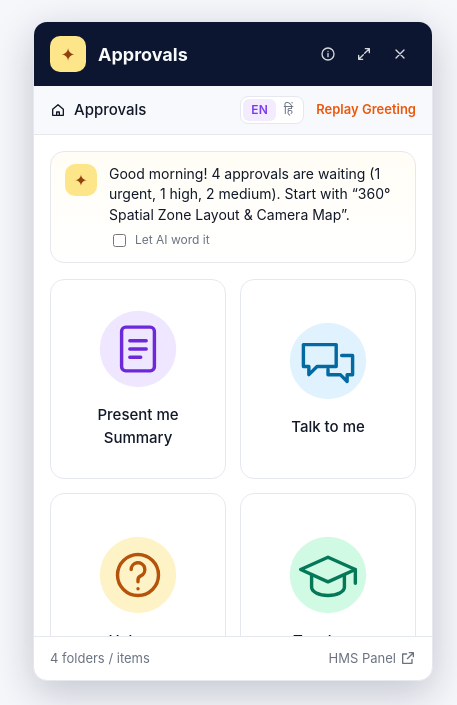
Test: AssistantPanel › opens an action view and goes back to the cards
This screenshot has width=457, height=705.
Click the button "Teach me" at (328, 593), box 240,493 -> 416,693
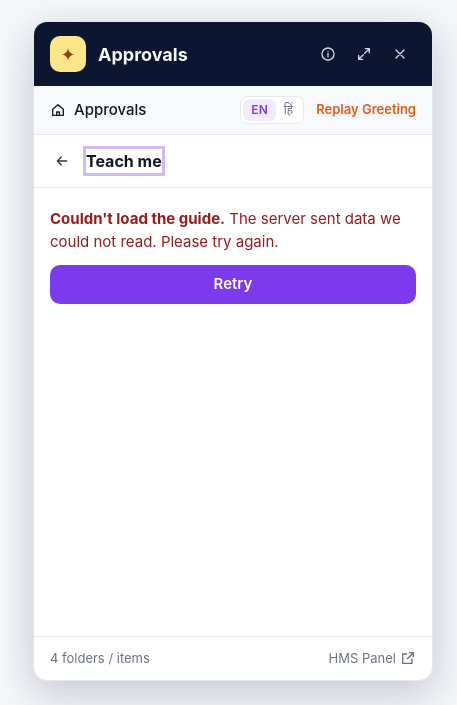
Expected: the heading "Teach me" is shown, 86,149 -> 162,173
Click the button named "back" at (62, 161), box 46,145 -> 78,177
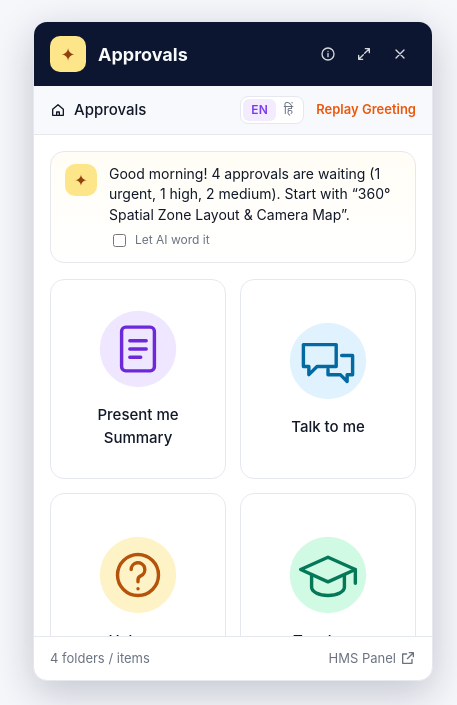
Click the button "Present me Summary" at (138, 379), box 50,279 -> 226,479
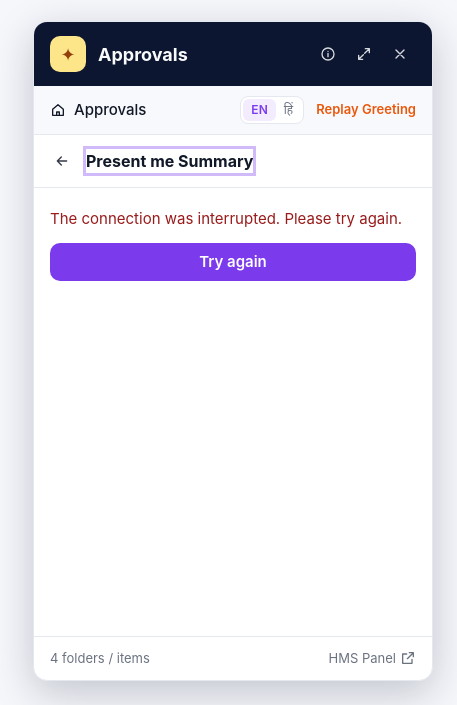
Now the heading "Present me Summary" is shown, box 86,149 -> 253,173
Now the button "Talk to me" is gone
Click the button named "back" at (62, 161), box 46,145 -> 78,177
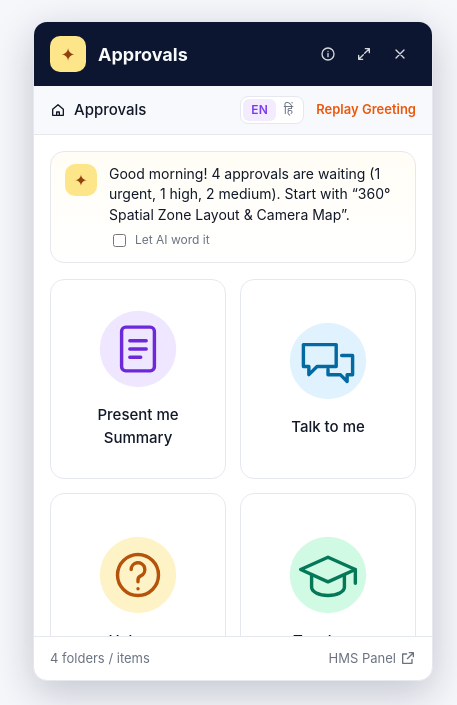
Now the button "Talk to me" is shown, box 240,279 -> 416,479
